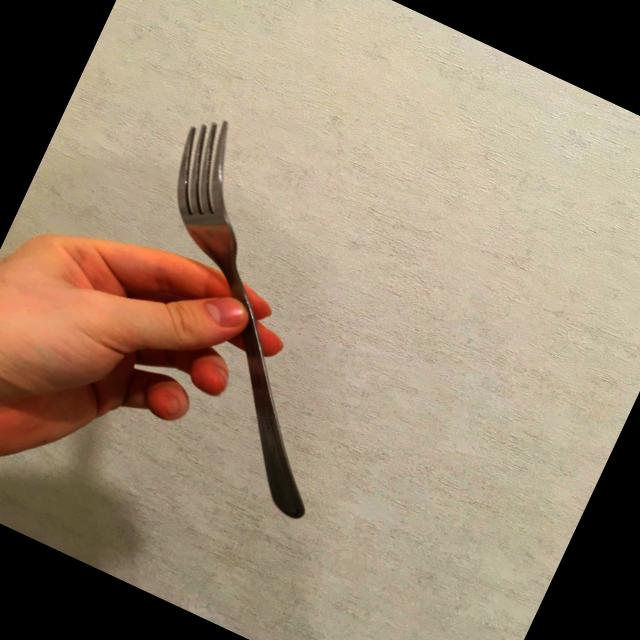fork: (57, 108, 440, 523)
